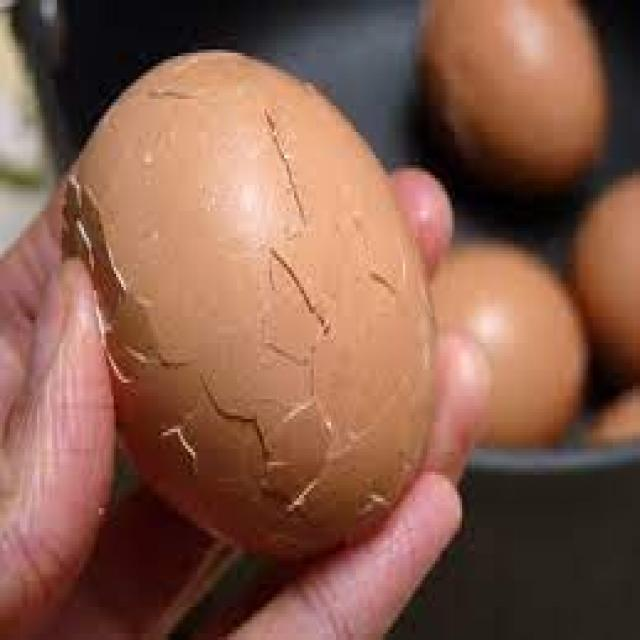biodegradable: (64, 51, 440, 560)
